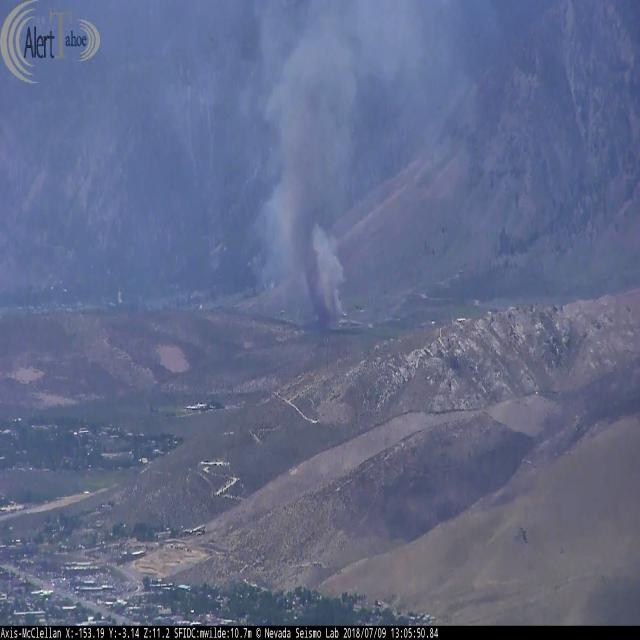smoke: (271, 0, 427, 327)
